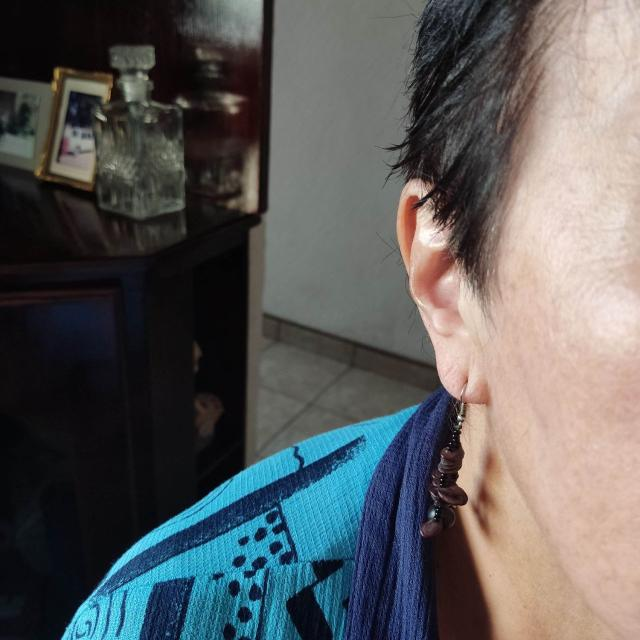ear: (398, 180, 494, 408)
